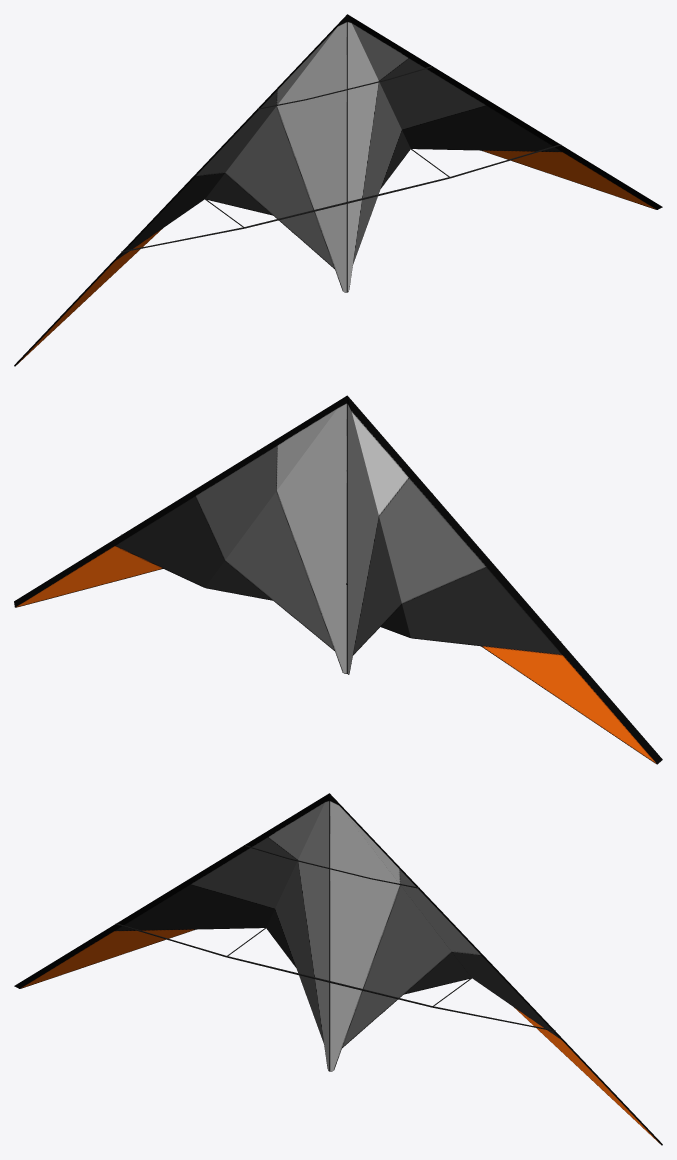
File: Control-2021.obj
3 views of the same model, one above another, from view 1: azimuth 30°, elevation 25°; view 2: azimuth 150°, elevation 25°; view 3: azimuth 330°, elevation 25° (orthographic).
Size of the model in its own units: 2520 by 1049 by 267.
3 materials, 2 textured.
